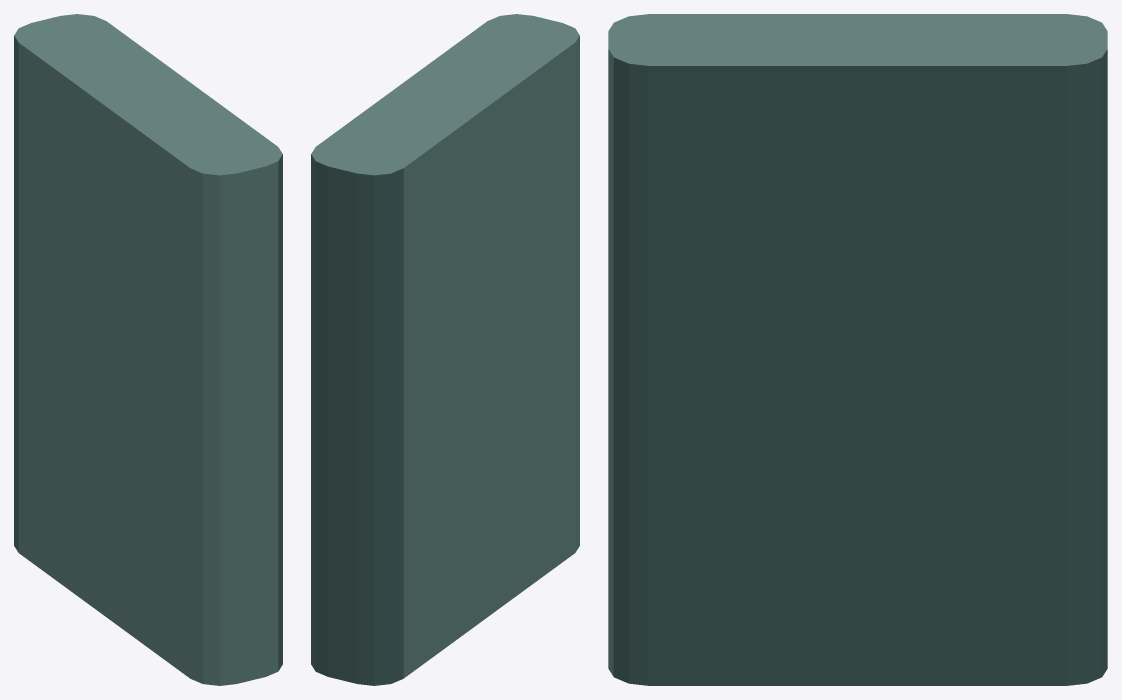
Rendered from Bridge_Anchor.gltf.
3 renders of one model, left to right at view 1: azimuth 30°, elevation 25°; view 2: azimuth 150°, elevation 25°; view 3: azimuth 270°, elevation 25°, orthographic. The views are drawn at different scales.
Parts seen in each view (by area): view 1: Bridge_Anchor_baked; view 2: Bridge_Anchor_baked; view 3: Bridge_Anchor_baked.
Part boxes in pixels (x1,y1,x2,y2): Bridge_Anchor_baked: [14, 14, 282, 685]; Bridge_Anchor_baked: [311, 14, 579, 685]; Bridge_Anchor_baked: [608, 14, 1107, 685].
Size of the model in its own units: 0.18 by 1 by 0.73.
